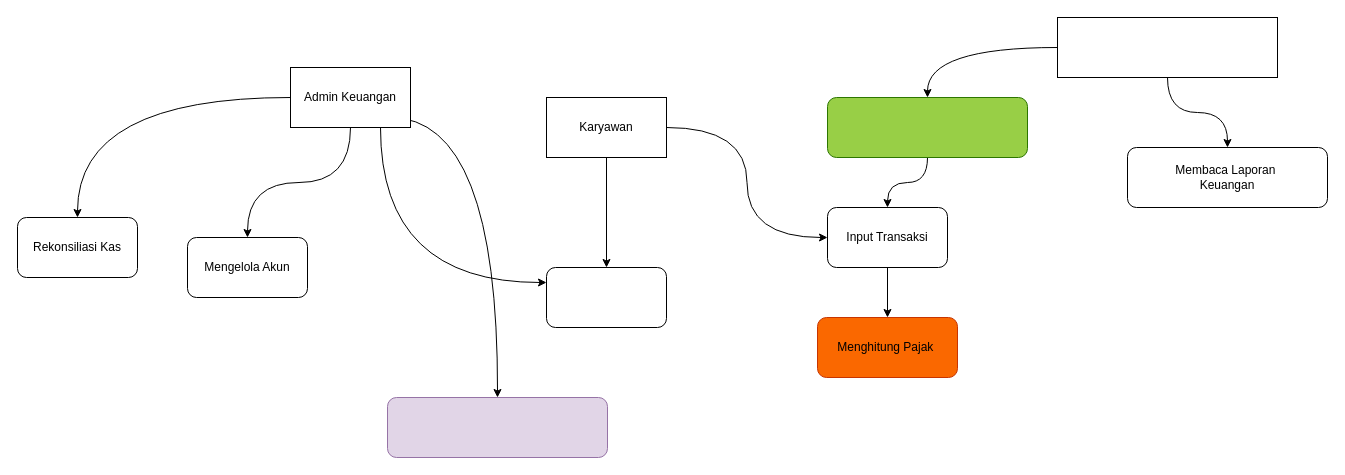
The diagram is 1345 pixels wide and 475 high, and some of its shapes have lost their labels. Here are the shapes that lost their labels. From the top down, the centre of each, then its label:
(x=1167, y=47): Manajer Keuangan
(x=927, y=127): Generate Laporan Keuangan
(x=606, y=297): Mengelola Persediaan
(x=497, y=427): Penutupan Periode Akuntansi
